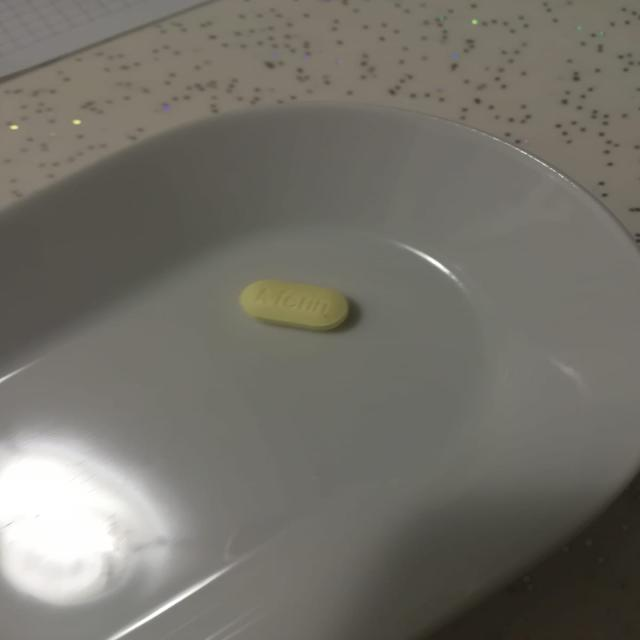pills: (232, 272, 362, 337)
